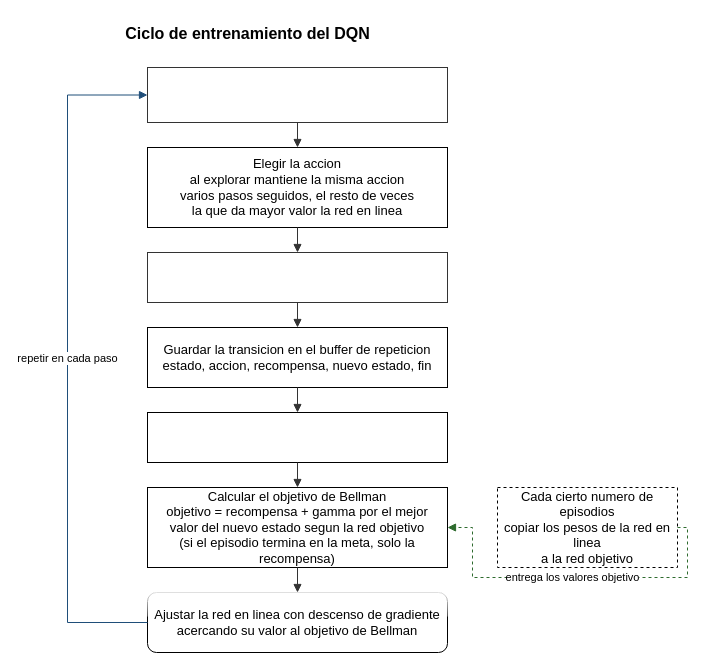
Image size: 713x670. Some labels were removed from this diagram. Each missing label, with the box of its shape:
Ejecutar la accion en el entorno: (146, 252, 448, 302)
Observar el estado del entorno (dos numeros continuos, sin discretizar): (146, 66, 448, 122)
Tomar un minilote aleatorio del buffer: (146, 412, 448, 462)
